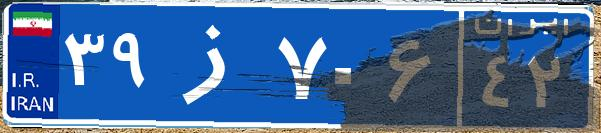0: (330, 28, 385, 110)
2: (525, 38, 570, 115)
3: (57, 26, 110, 107)
4: (475, 38, 525, 113)
6: (385, 28, 445, 110)
7: (273, 28, 330, 110)
9: (110, 28, 158, 105)
ز: (158, 15, 273, 115)
